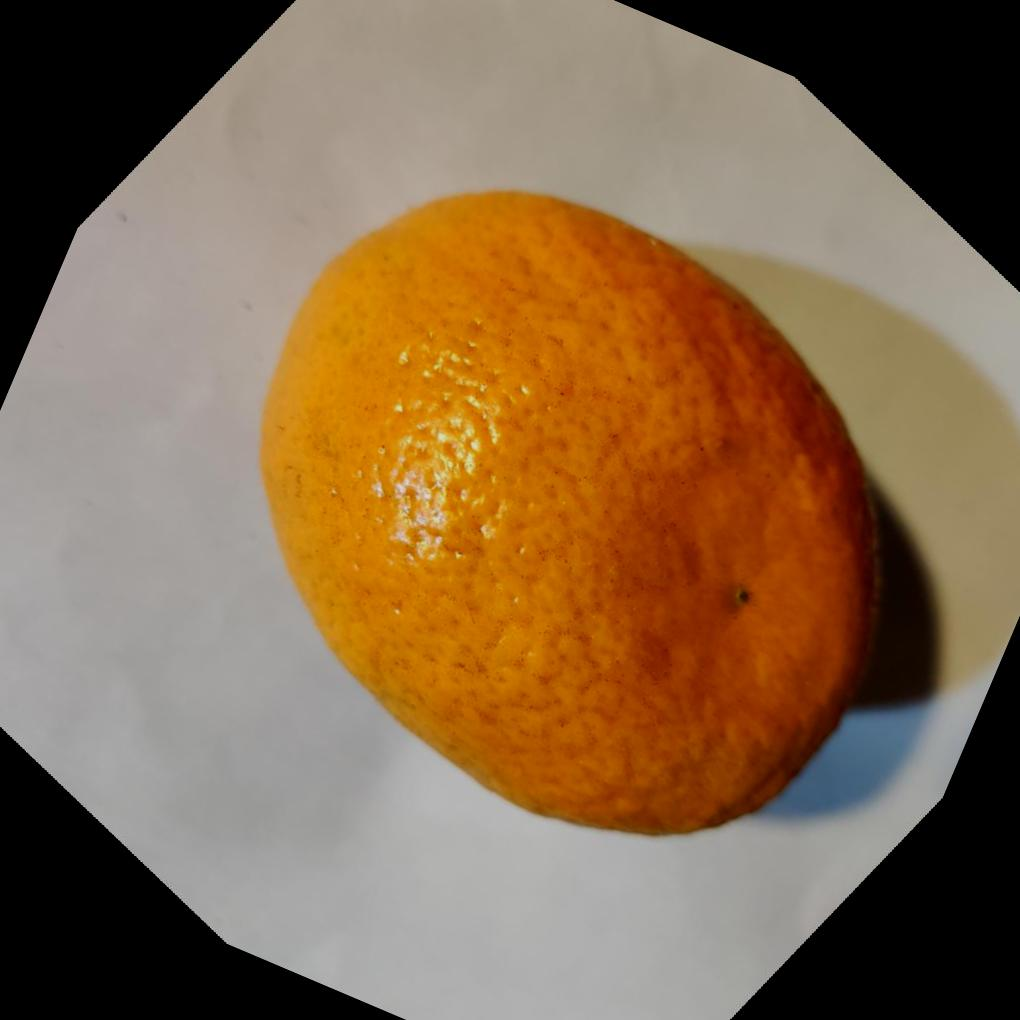FreshGuava: (252, 185, 881, 837)
